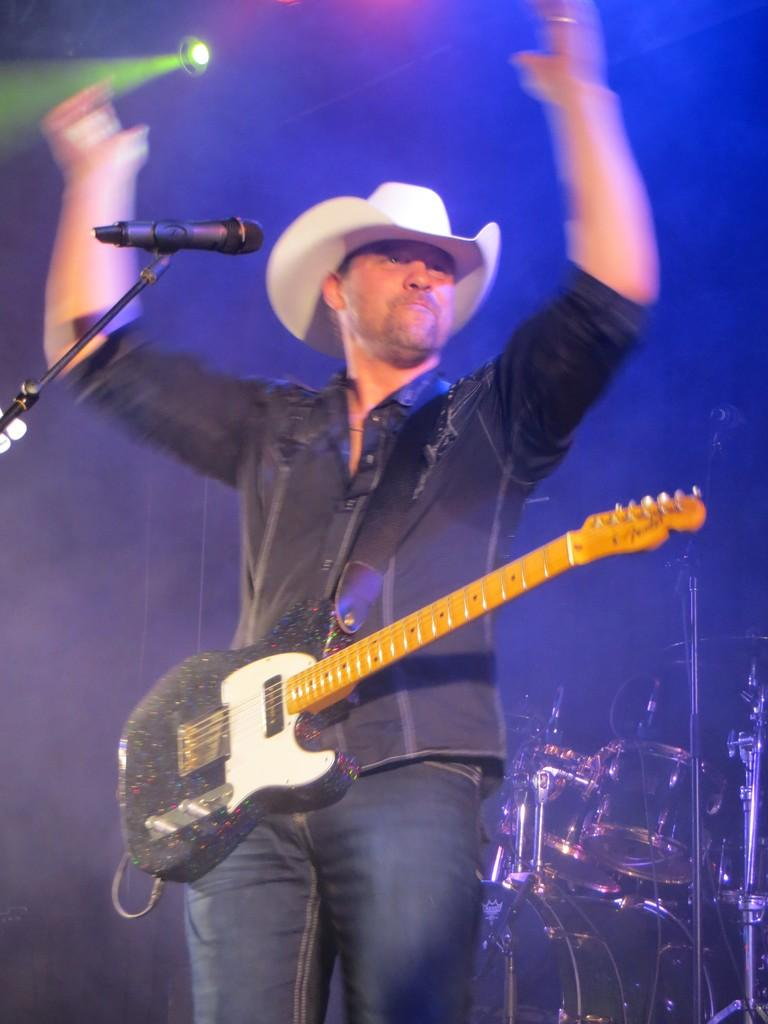Hat: (263, 180, 487, 343)
